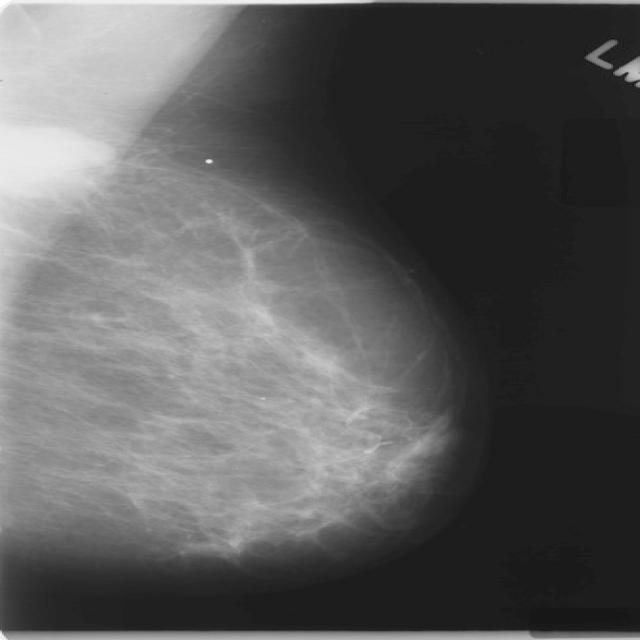tumour: (0, 124, 115, 198)
